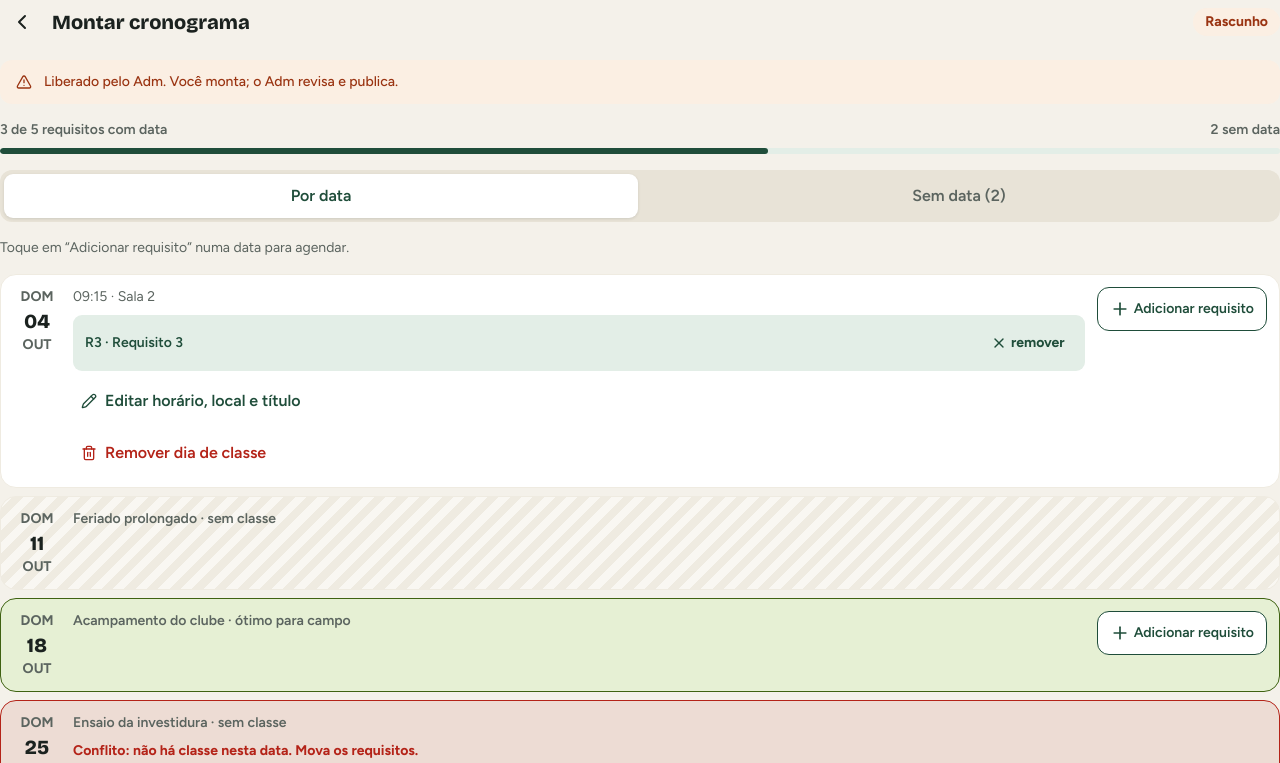
Test case: I3b · montar › data de campo: os de campo vêm primeiro, "Sugerido para este dia"
Expected: the text "3 de 5 requisitos com data" is shown, [0,120,167,140]
Click the button with aria-label "Adicionar requisito nesta data": (1182, 633) [1097,611,1267,655]
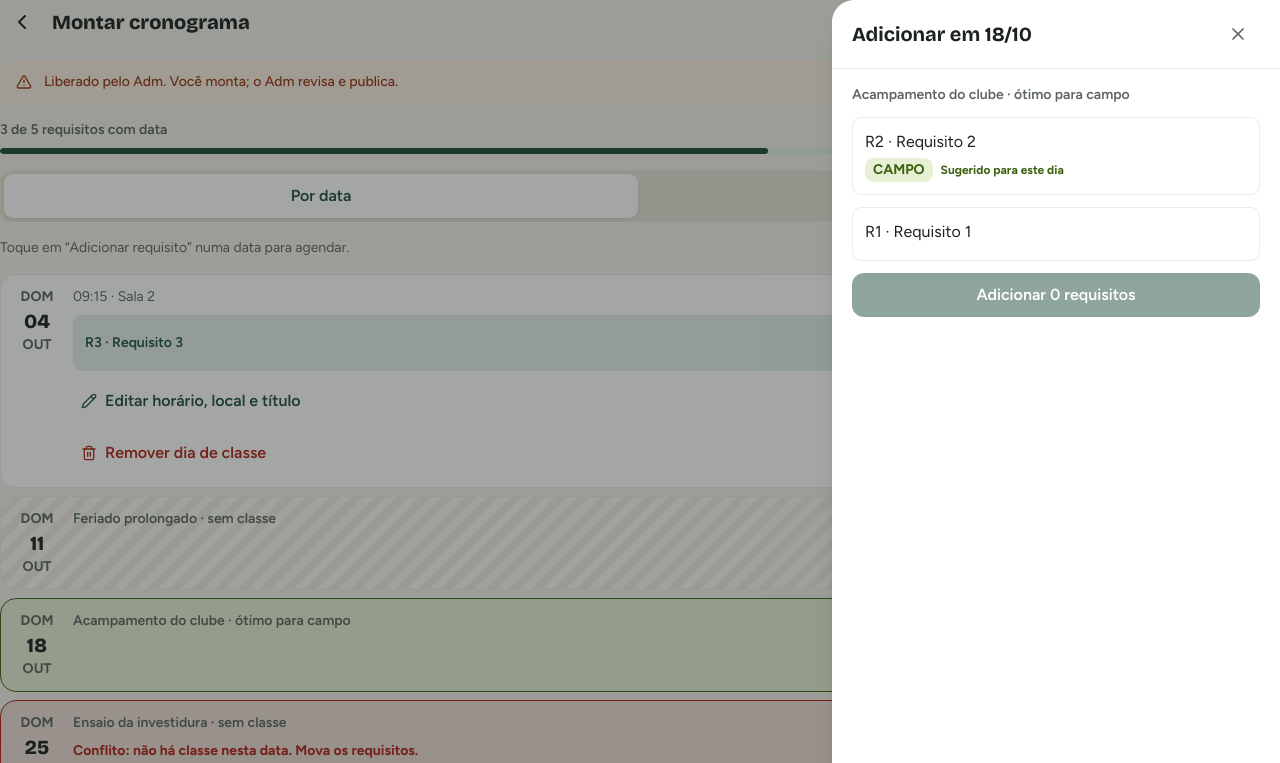
Result: the text "Sugerido para este dia" is shown once at [941,162,1064,178]
